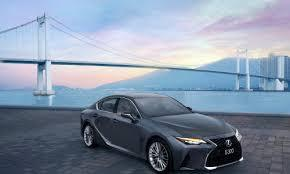lexus: (223, 139, 233, 148)
